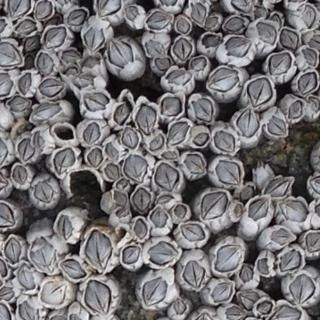Barnacle: (85, 228, 112, 270), (84, 280, 111, 316), (30, 236, 56, 273), (108, 38, 134, 70), (257, 13, 283, 45), (201, 191, 228, 220), (154, 163, 181, 192), (289, 274, 315, 304), (143, 276, 167, 308), (247, 78, 273, 107), (210, 68, 241, 92), (215, 159, 242, 186), (214, 244, 242, 270), (125, 154, 150, 183), (146, 241, 176, 265), (278, 200, 309, 223), (42, 281, 66, 307), (0, 41, 24, 67), (237, 109, 258, 137), (184, 260, 205, 287), (53, 148, 74, 175), (277, 249, 301, 272), (137, 105, 156, 134), (86, 24, 105, 53), (181, 221, 207, 242), (118, 128, 141, 151), (61, 257, 85, 279), (18, 262, 36, 291), (146, 12, 172, 32), (33, 103, 60, 122), (214, 130, 236, 153), (183, 153, 204, 177), (192, 98, 213, 122), (96, 0, 124, 18), (226, 37, 251, 57), (269, 53, 291, 75), (168, 123, 188, 147), (85, 93, 109, 112), (265, 179, 290, 197), (33, 180, 53, 202), (160, 97, 182, 117), (43, 27, 65, 47), (270, 306, 301, 320), (5, 236, 21, 263), (16, 138, 34, 162), (39, 78, 63, 96), (240, 290, 260, 311), (248, 199, 268, 220), (268, 117, 288, 138), (211, 283, 233, 302), (173, 39, 192, 61), (57, 215, 73, 241), (299, 72, 317, 95), (114, 100, 130, 125), (71, 74, 96, 90), (9, 0, 29, 20), (19, 301, 40, 320), (282, 30, 300, 52), (134, 189, 151, 212), (83, 121, 100, 144), (123, 244, 142, 264), (150, 207, 168, 228), (144, 39, 166, 56), (288, 100, 305, 121), (15, 19, 36, 36), (37, 53, 53, 75), (18, 72, 33, 95), (192, 2, 207, 25), (36, 0, 54, 19), (273, 229, 293, 246), (166, 71, 192, 84), (226, 304, 247, 320), (79, 55, 100, 71), (133, 218, 148, 240), (0, 74, 14, 97), (88, 145, 102, 167), (301, 48, 317, 67), (26, 34, 42, 53), (68, 10, 87, 26), (305, 232, 320, 252), (9, 96, 29, 111), (12, 166, 27, 185), (225, 18, 246, 31), (149, 133, 164, 151), (302, 4, 314, 26), (0, 287, 17, 302), (155, 193, 176, 205), (113, 190, 126, 209), (34, 130, 46, 150), (125, 6, 140, 22), (202, 34, 219, 48), (257, 258, 270, 276), (308, 97, 320, 116), (241, 185, 256, 200), (177, 19, 192, 34), (174, 298, 187, 315), (175, 204, 188, 221), (193, 132, 210, 145), (61, 49, 78, 62), (105, 164, 118, 180), (191, 58, 207, 71), (106, 143, 118, 160), (258, 301, 274, 313), (240, 266, 252, 282), (155, 59, 172, 70), (309, 34, 320, 51), (161, 150, 178, 159), (61, 66, 76, 76), (205, 16, 218, 27), (116, 211, 129, 219), (234, 205, 241, 219)
